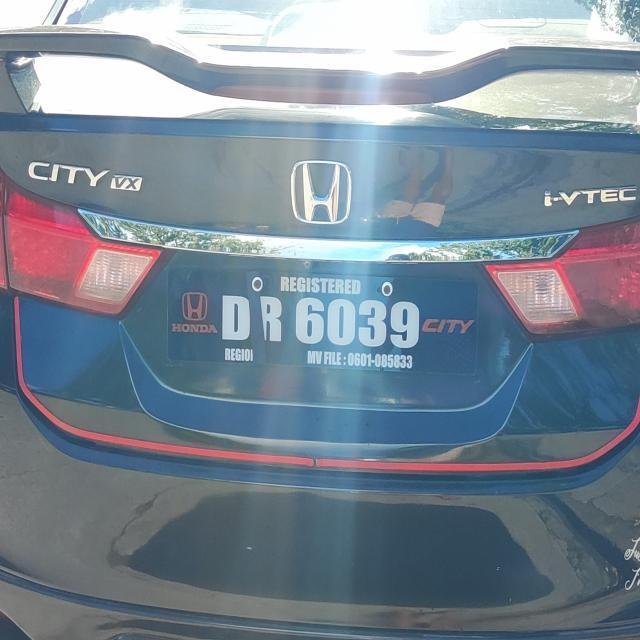LicensePlate: (156, 262, 479, 386)
